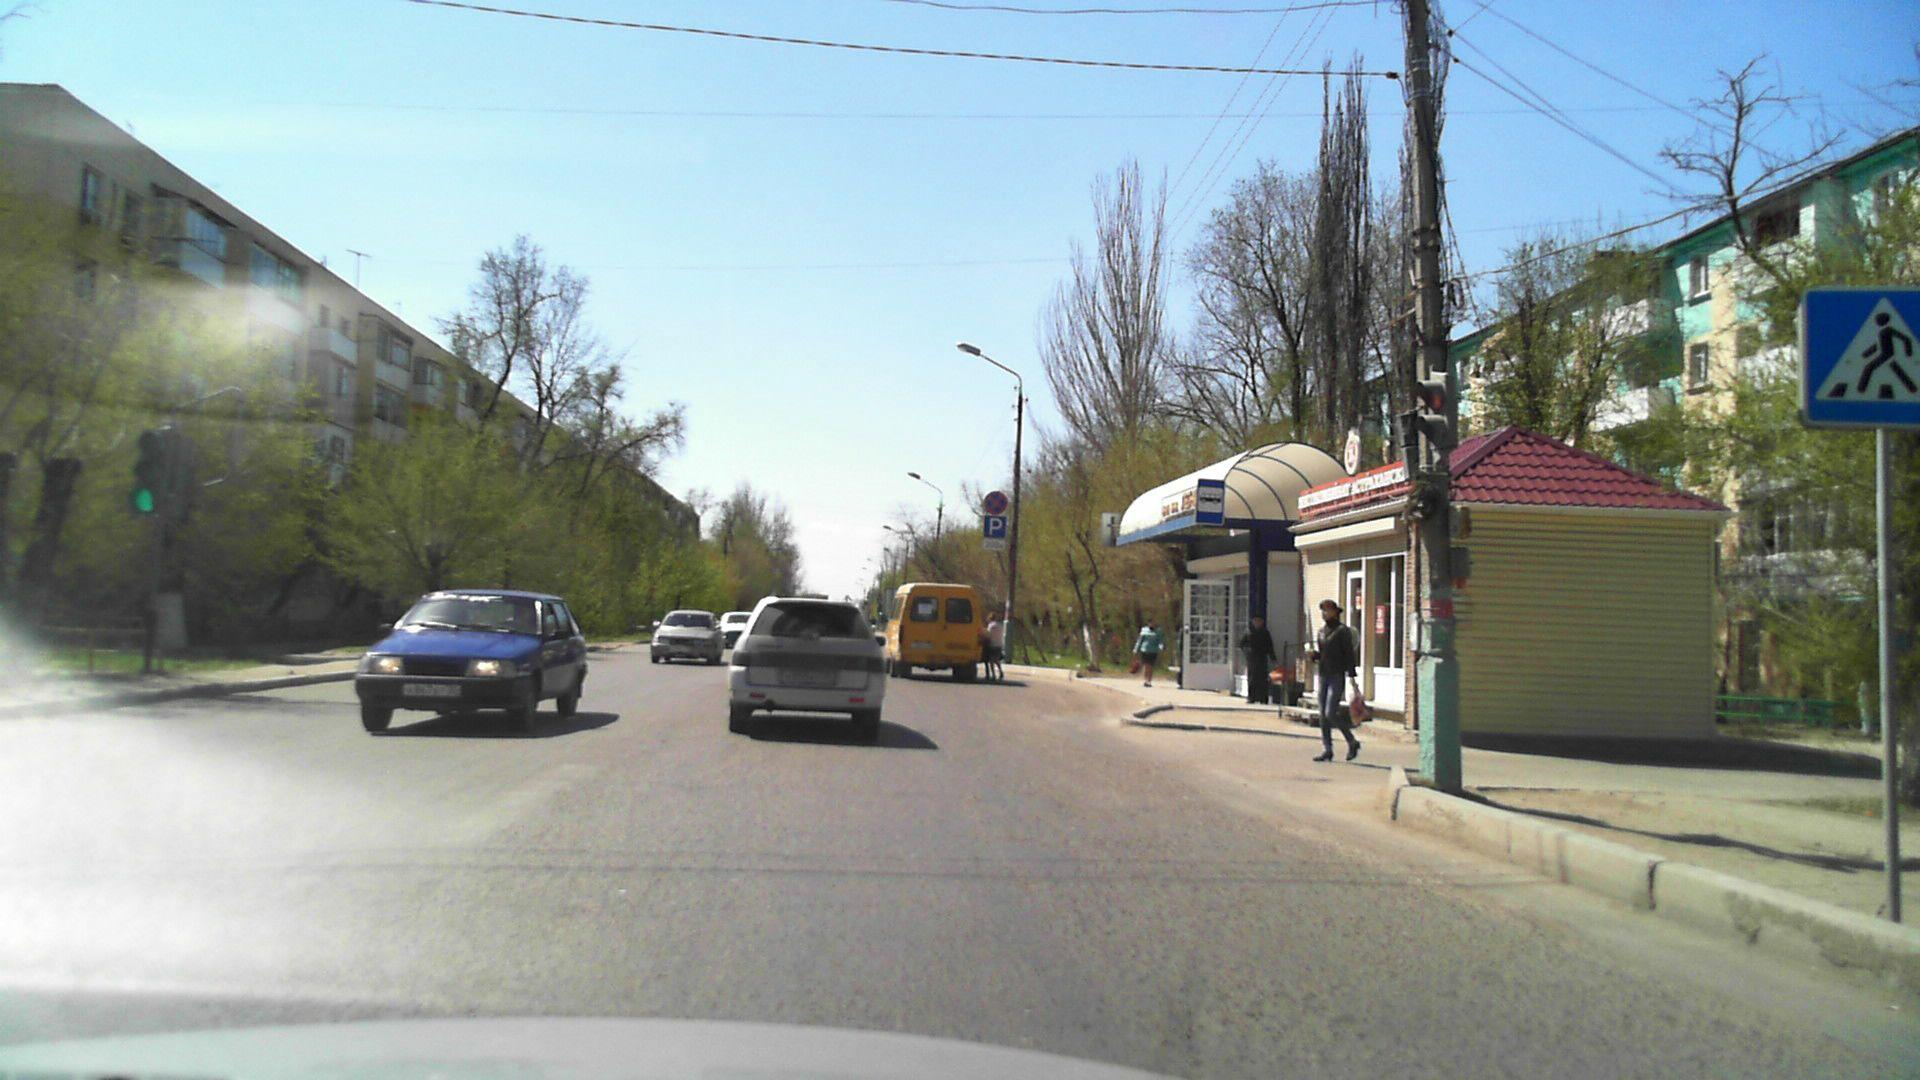3_27: (984, 491, 1007, 514)
5_16: (1197, 480, 1226, 525)
5_19_1: (1800, 287, 1920, 427)
6_4: (982, 516, 1007, 537)
8_1_1: (984, 539, 1006, 551)
